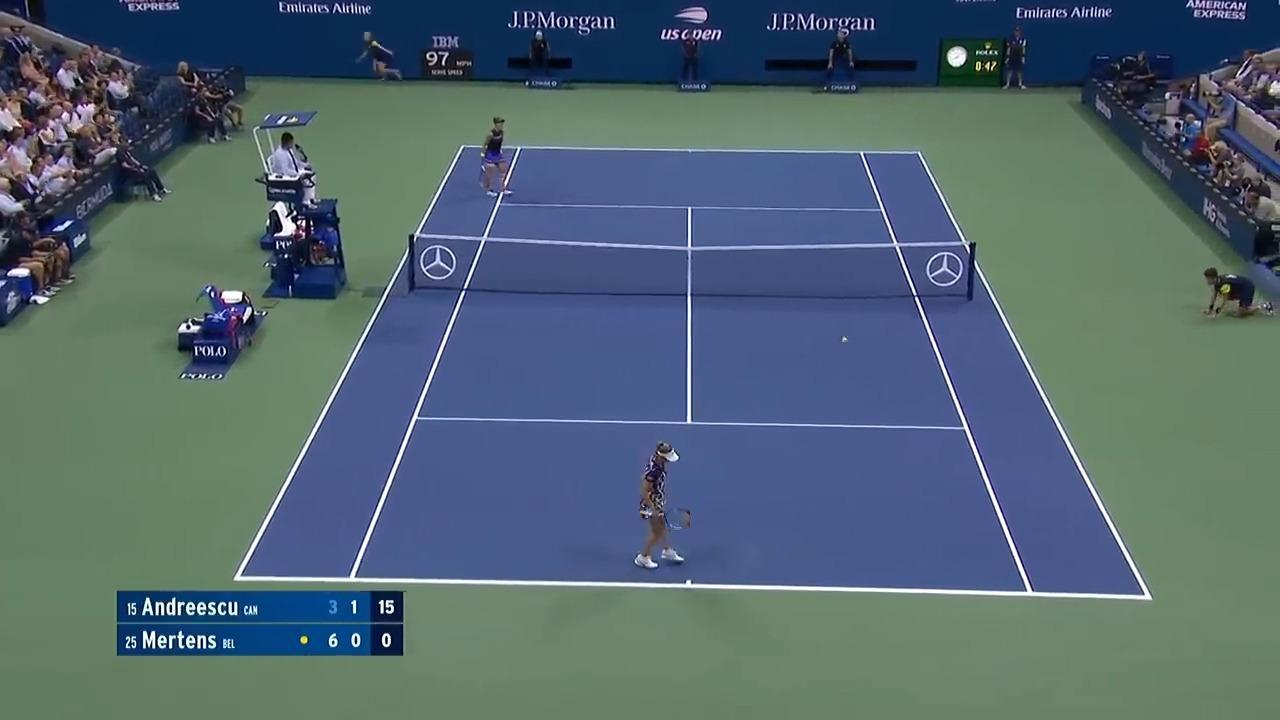tennis ball: (838, 334, 854, 345)
tennis racket: (665, 507, 690, 529), (640, 508, 652, 517)
